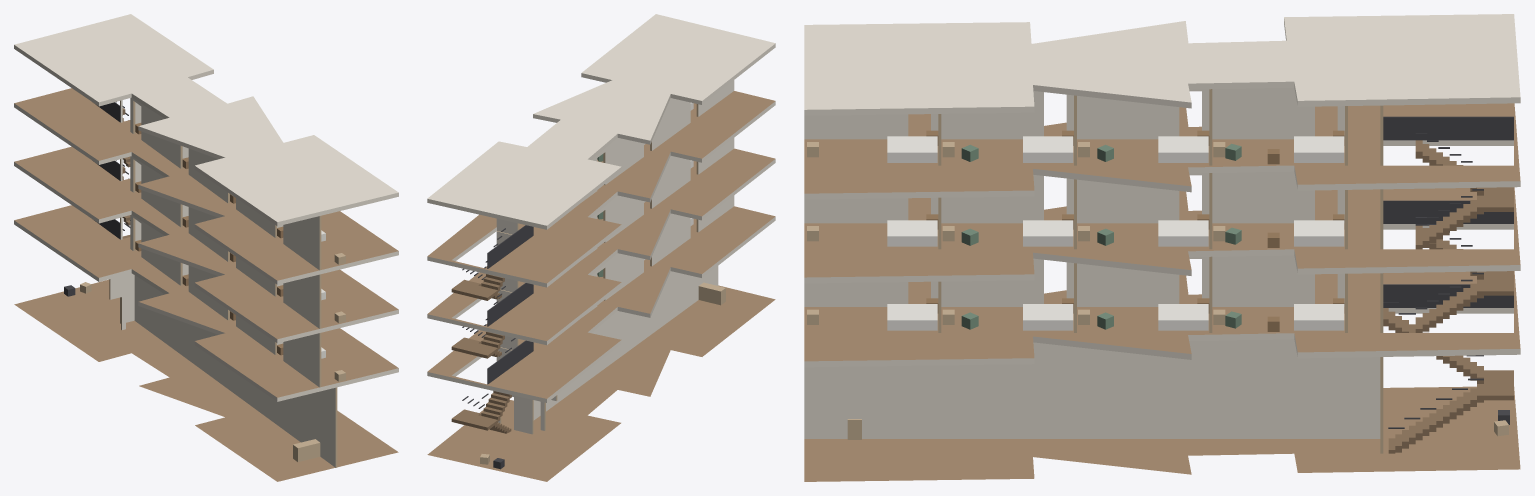
File: interior.glb
The picture shows the model from 3 angles, left to right: view 1: azimuth 30°, elevation 25°; view 2: azimuth 150°, elevation 25°; view 3: azimuth 270°, elevation 25°; orthographic projection. The views are drawn at different scales.
Visible parts, largest first — view 1: slabs, partitions, stair, coarse-s0, coarse-s1, coarse-s2, coarse-s3; view 2: slabs, partitions, stair, coarse-s0; view 3: slabs, partitions, stair, coarse-s1, coarse-s2, coarse-s3.
Part boxes in pixels (x1,y1,x2,y2): slabs: [14, 14, 398, 481]; partitions: [109, 97, 337, 467]; stair: [93, 101, 130, 239]; coarse-s0: [64, 282, 320, 461]; coarse-s1: [135, 240, 345, 381]; coarse-s2: [135, 181, 345, 323]; coarse-s3: [135, 123, 345, 264]; slabs: [427, 14, 775, 481]; partitions: [496, 80, 734, 434]; stair: [451, 225, 533, 433]; coarse-s0: [480, 282, 725, 469]; slabs: [804, 14, 1520, 481]; partitions: [804, 87, 1383, 453]; stair: [1383, 116, 1513, 453]; coarse-s1: [807, 298, 1344, 331]; coarse-s2: [807, 214, 1344, 247]; coarse-s3: [807, 130, 1344, 164].
Size of the model in its own units: 8.99 by 16.3 by 28.39.
